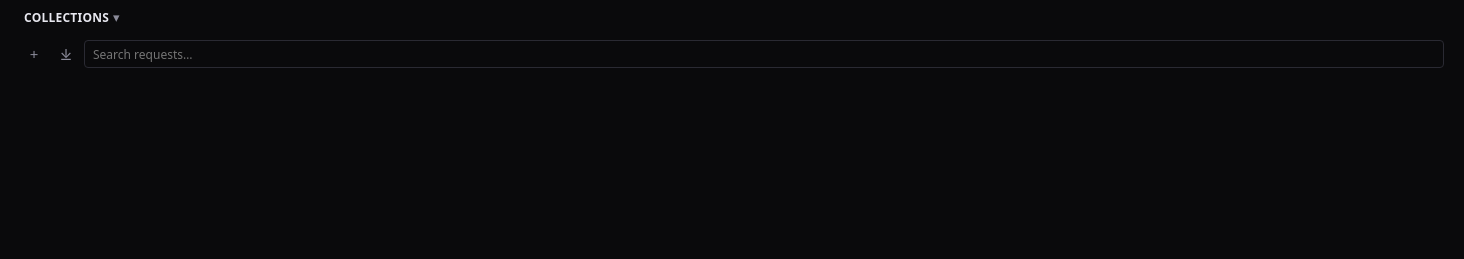
Test: HistoryView › labels sends a pre-request script skipped or stopped
The width and height of the screenshot is (1464, 259).
Click the button with aria-label "Sidebar view: ".
click(72, 18)  # box [20,4,124,32]
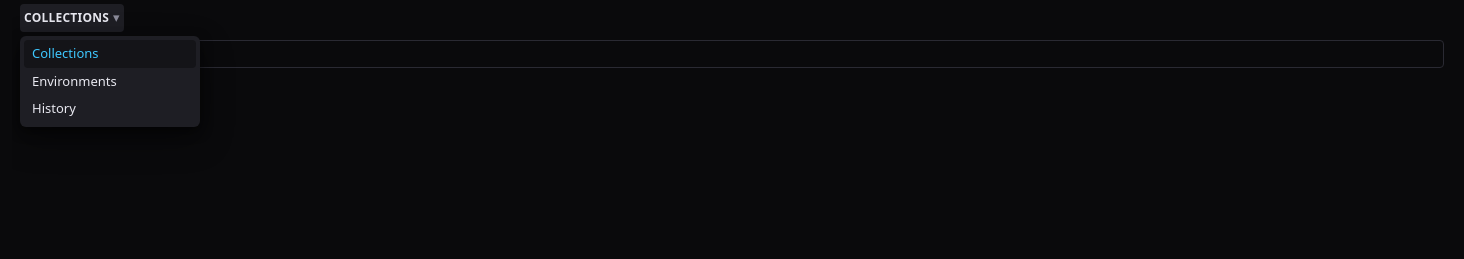
Click the menu item "History".
click(110, 109)  # box [24,95,196,122]
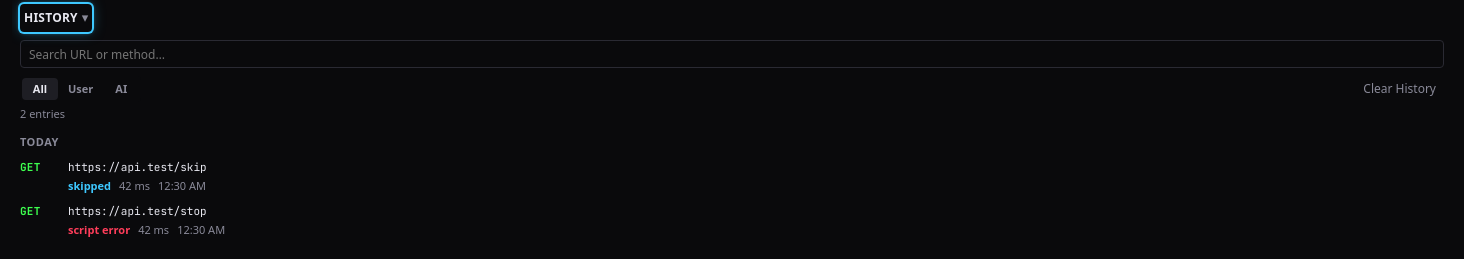
Expected: the list named "History" is shown, [12,126,1452,242]
